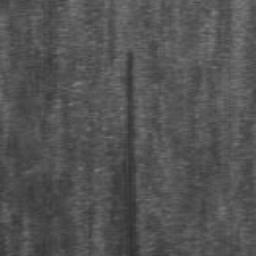Scratches: (118, 49, 140, 256)
